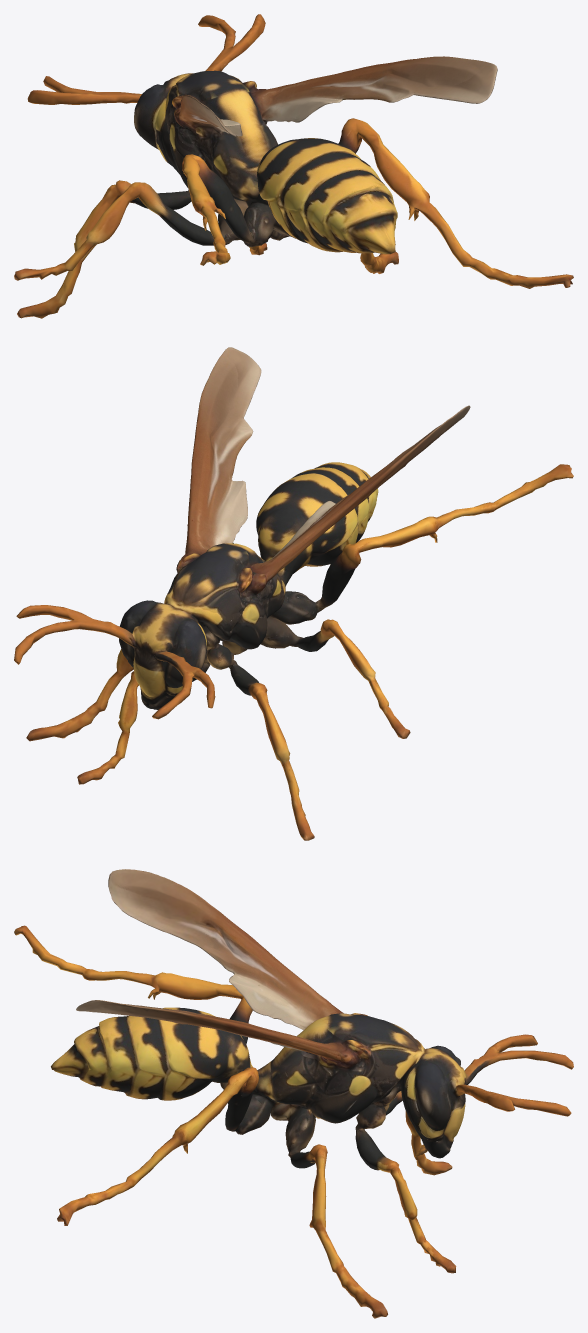
Rendered from avispa_de_papel_polistes_spp.fbx.
The picture shows the model from 3 angles, top to bottom: view 1: azimuth 30°, elevation 25°; view 2: azimuth 150°, elevation 25°; view 3: azimuth 270°, elevation 25°; orthographic projection. The views are drawn at different scales.
Parts seen in each view (by area): view 1: tripo_node_aa76fab9; view 2: tripo_node_aa76fab9; view 3: tripo_node_aa76fab9.
Part boxes in pixels (bbox=[...]): tripo_node_aa76fab9: bbox=[14, 14, 573, 318]; tripo_node_aa76fab9: bbox=[14, 347, 573, 840]; tripo_node_aa76fab9: bbox=[14, 869, 573, 1318].
Bounding box in the file's own units: 72.63 × 58.83 × 97.92.
1 material, 1 textured.
